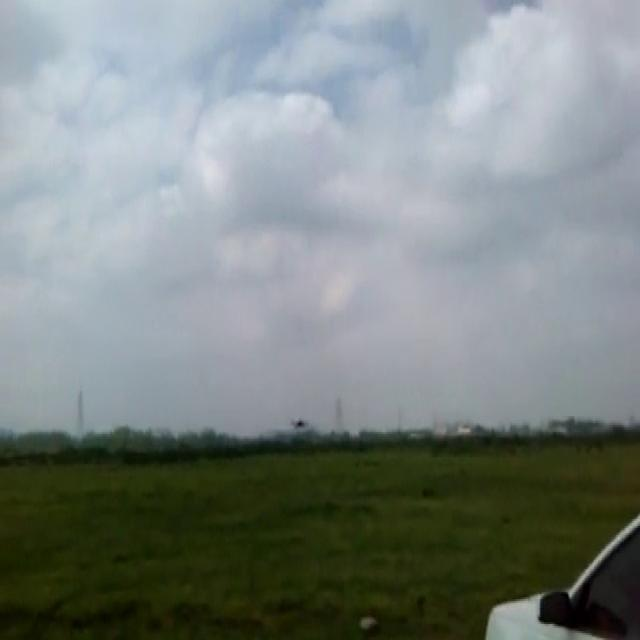drone: (290, 413, 310, 431)
